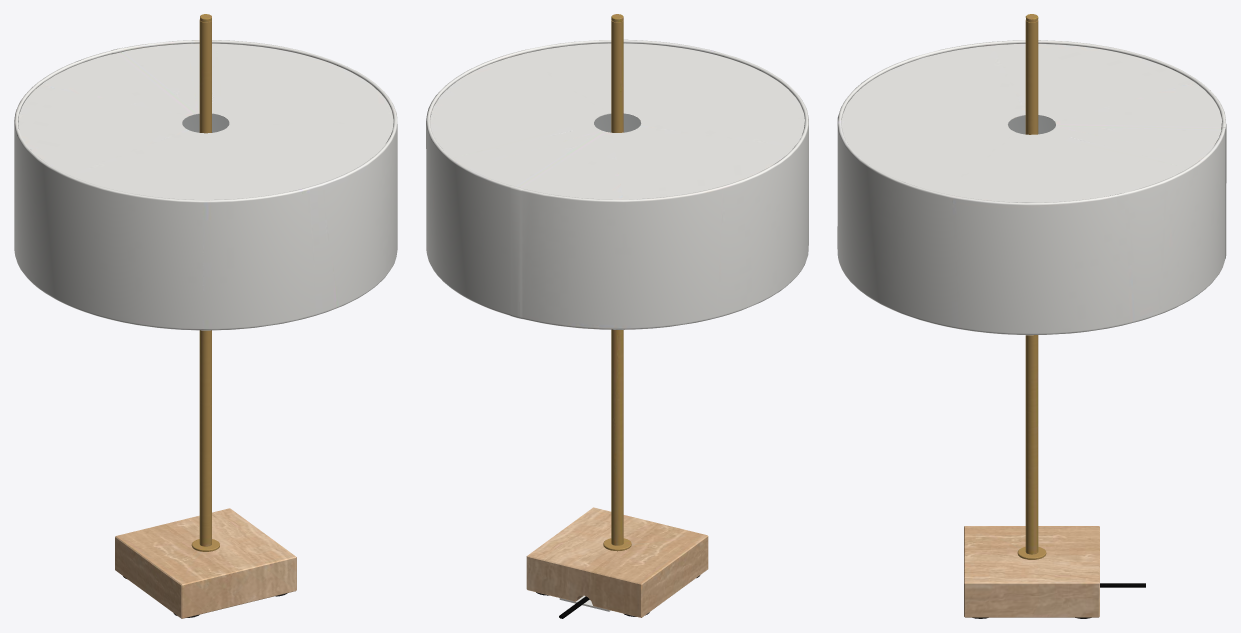
Rendered from stockholm_2025_lampa_stoowa_90585926.glb.
3 renders of one model, left to right at view 1: azimuth 30°, elevation 25°; view 2: azimuth 150°, elevation 25°; view 3: azimuth 270°, elevation 25°, orthographic.
Parts seen in each view (by area): view 1: stockholm_2025_lampa_stoowa_90585926; view 2: stockholm_2025_lampa_stoowa_90585926; view 3: stockholm_2025_lampa_stoowa_90585926.
Boxes of the visible parts, <box> form: stockholm_2025_lampa_stoowa_90585926: <box>14,14,397,618</box>; stockholm_2025_lampa_stoowa_90585926: <box>426,14,808,618</box>; stockholm_2025_lampa_stoowa_90585926: <box>837,14,1226,618</box>.
Bounding box in the file's own units: 0.4015 × 0.6535 × 0.401.
1 material, 1 textured.
